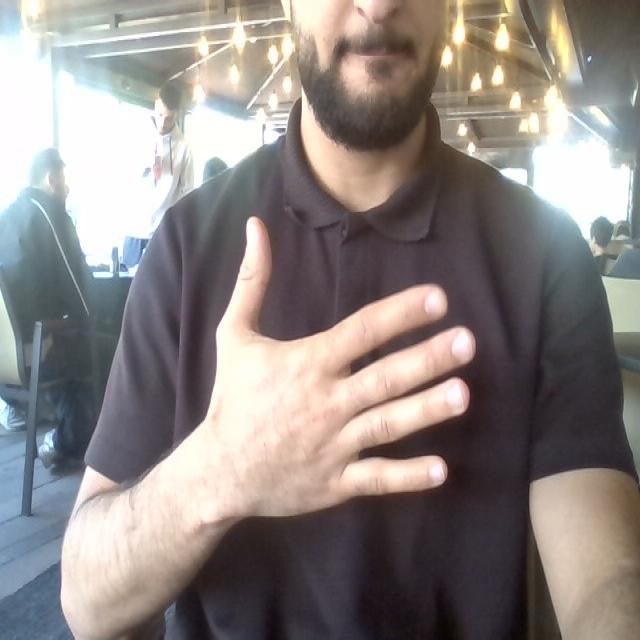Hand: (201, 219, 474, 517)
